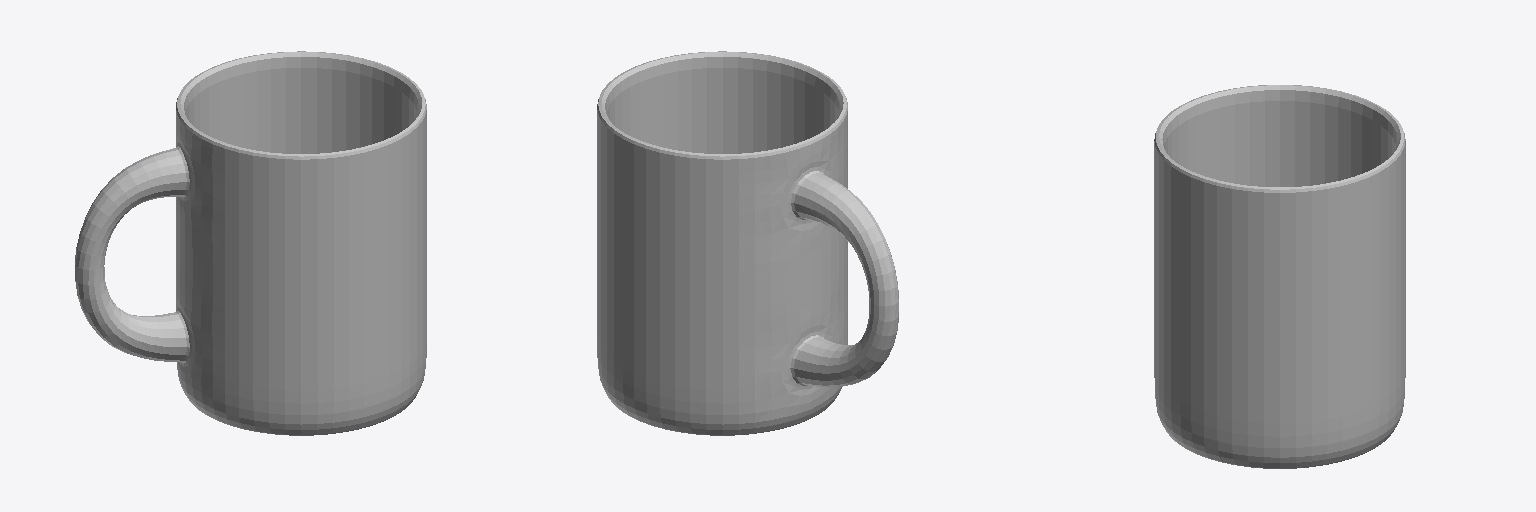
The model's file is coffee cp.obj.
3 views of the same model, side by side, from view 1: azimuth 30°, elevation 25°; view 2: azimuth 150°, elevation 25°; view 3: azimuth 270°, elevation 25° (orthographic).
Visible parts, largest first — view 1: pCylinder1; view 2: pCylinder1; view 3: pCylinder1.
Boxes of the visible parts, x1,y1,x2,y2 form: pCylinder1: [75, 51, 426, 435]; pCylinder1: [597, 51, 898, 435]; pCylinder1: [1154, 85, 1405, 468].
Size of the model in its own units: 11.71 by 10.3 by 8.27.